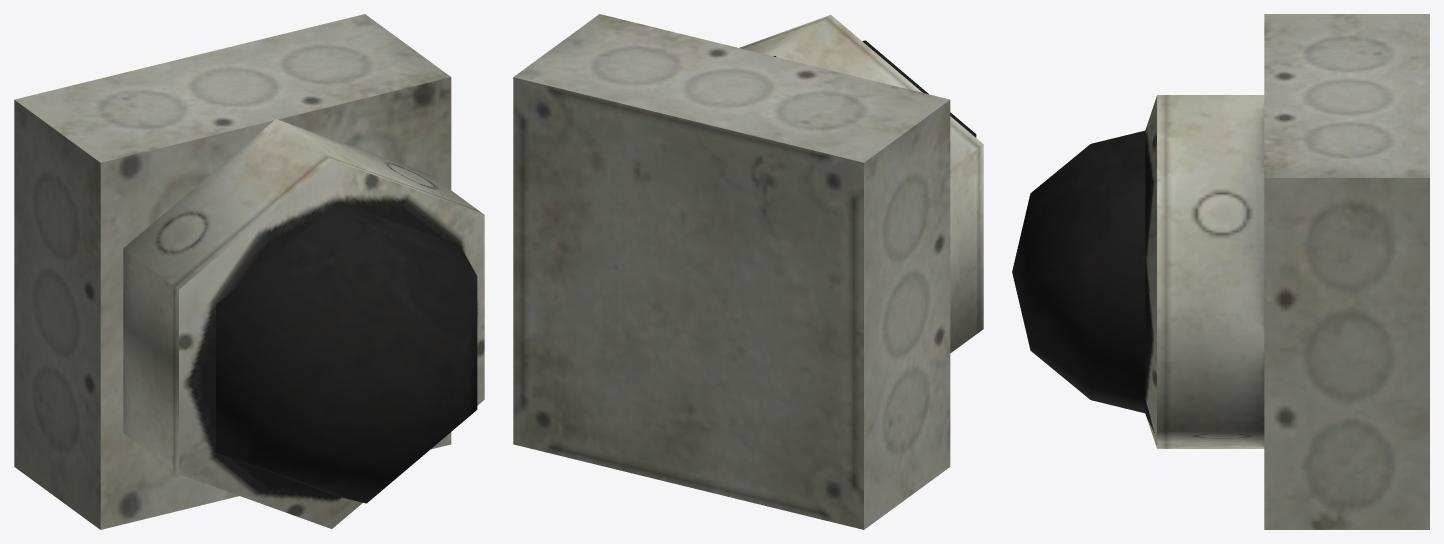
The model's file is p6_garage_pipes_camera_LOD1.obj.
The picture shows the model from 3 angles, left to right: view 1: azimuth 30°, elevation 25°; view 2: azimuth 150°, elevation 25°; view 3: azimuth 270°, elevation 25°; orthographic projection. The views are drawn at different scales.
Parts seen in each view (by area): view 1: mtl_p6_pipes_garage_details; view 2: mtl_p6_pipes_garage_details; view 3: mtl_p6_pipes_garage_details.
Part boxes in pixels (box(x1,y1,x2,y2)): mtl_p6_pipes_garage_details: box(14, 14, 484, 529); mtl_p6_pipes_garage_details: box(513, 14, 983, 529); mtl_p6_pipes_garage_details: box(1012, 14, 1429, 529).
Bounding box in the file's own units: 16.86 × 16.96 × 18.15.
